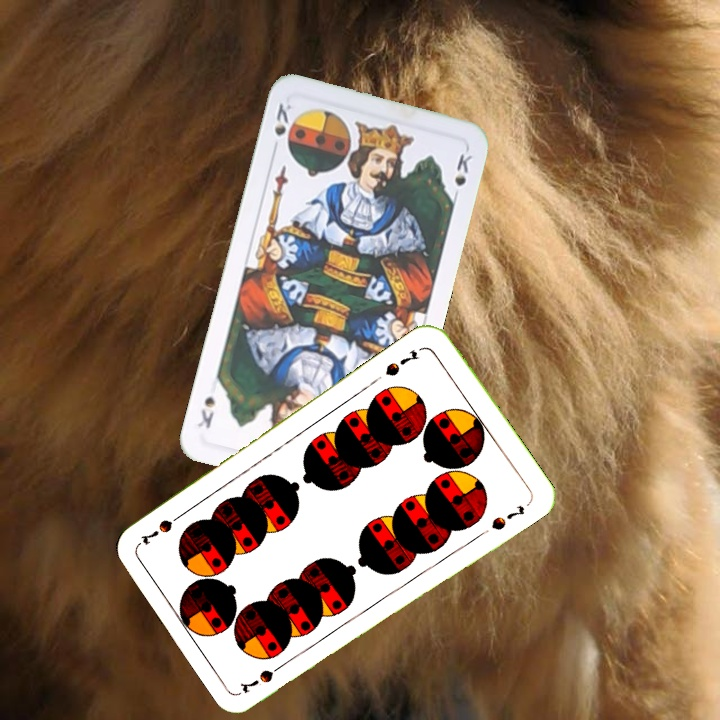S7: (237, 656, 291, 697), (381, 346, 421, 379)
SK: (268, 99, 294, 155)
